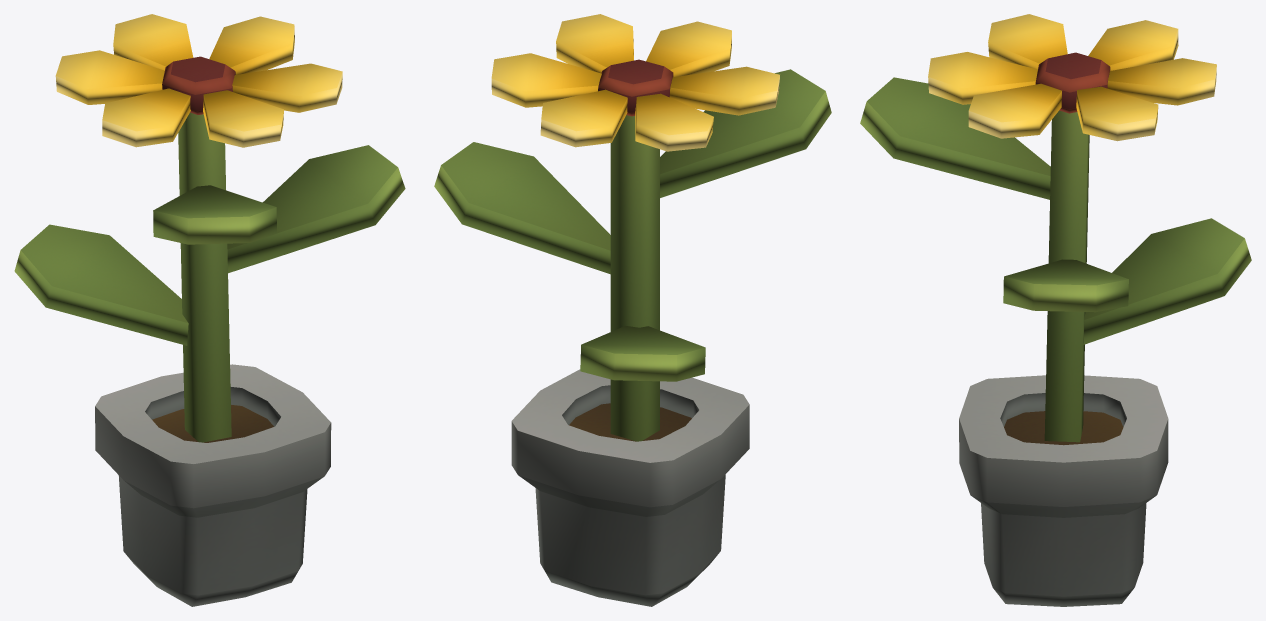
The model's file is flower_yellow_pot.fbx.
The picture shows the model from 3 angles, left to right: view 1: azimuth 30°, elevation 25°; view 2: azimuth 150°, elevation 25°; view 3: azimuth 270°, elevation 25°; orthographic projection.
Parts seen in each view (by area): view 1: flower_yellow_pot; view 2: flower_yellow_pot; view 3: flower_yellow_pot.
Boxes of the visible parts, <box> form: flower_yellow_pot: <box>14,14,405,606</box>; flower_yellow_pot: <box>434,14,831,606</box>; flower_yellow_pot: <box>860,14,1251,606</box>.
Size of the model in its own units: 50.33 by 78.99 by 55.1.
